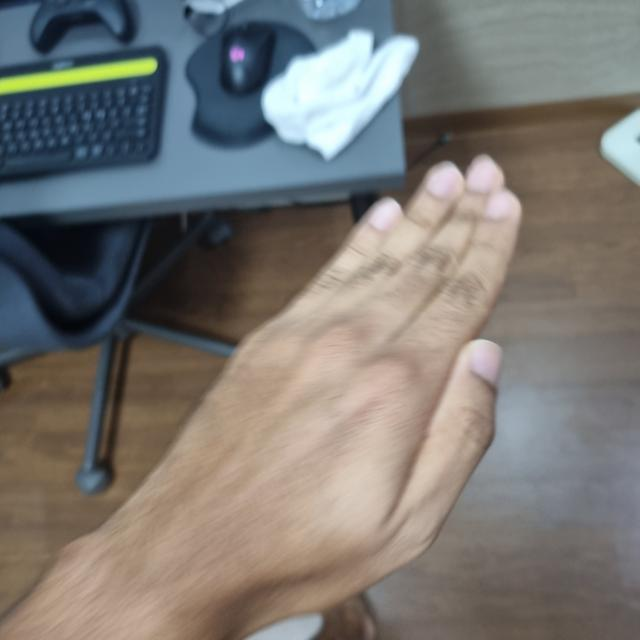Paper: (149, 158, 519, 611)
